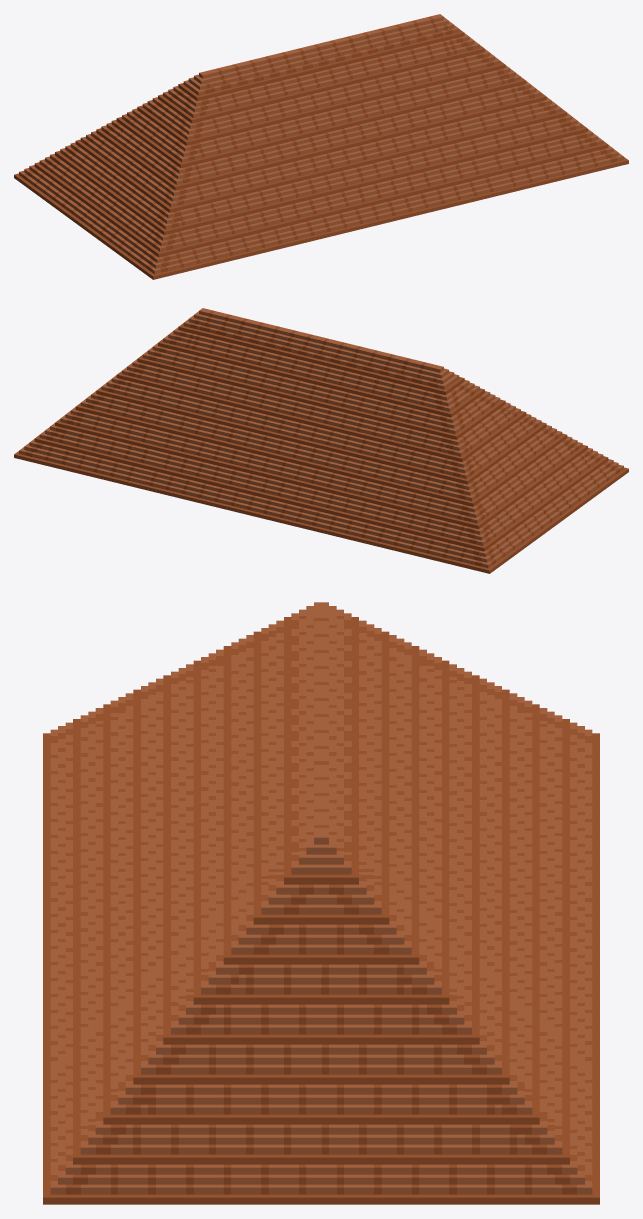
File: roof_textured_orange_spikey_rectangular.glb
3 renders of one model, top to bottom at view 1: azimuth 30°, elevation 25°; view 2: azimuth 150°, elevation 25°; view 3: azimuth 270°, elevation 25°, orthographic. The views are drawn at different scales.
Visible parts, largest first — view 1: GameObject; view 2: GameObject; view 3: GameObject.
Part boxes in pixels (x1,y1,x2,y2): GameObject: (14,14,628,279); GameObject: (14,308,628,573); GameObject: (43,602,599,1204).
Bounding box in the file's own units: 14.6 × 3.7 × 7.4.
1 material, 1 textured.
